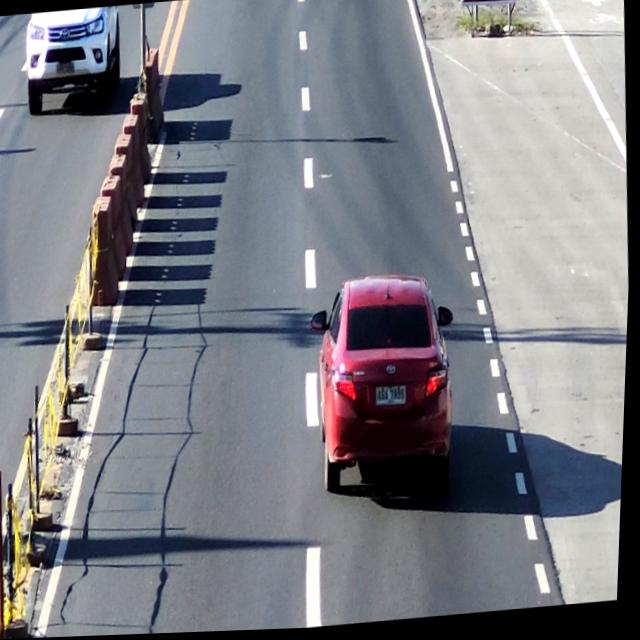Car: (309, 273, 471, 516)
License-Plate: (371, 381, 417, 414)
